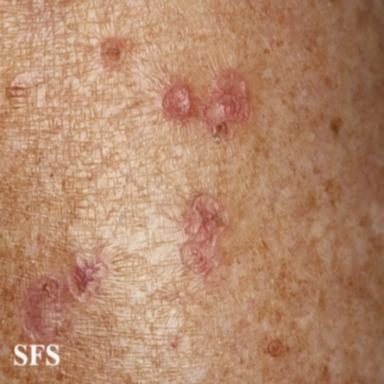Porokeratosis: (21, 250, 109, 342), (180, 193, 229, 276), (202, 68, 254, 141), (162, 83, 193, 119), (100, 37, 128, 68), (267, 339, 283, 357)
